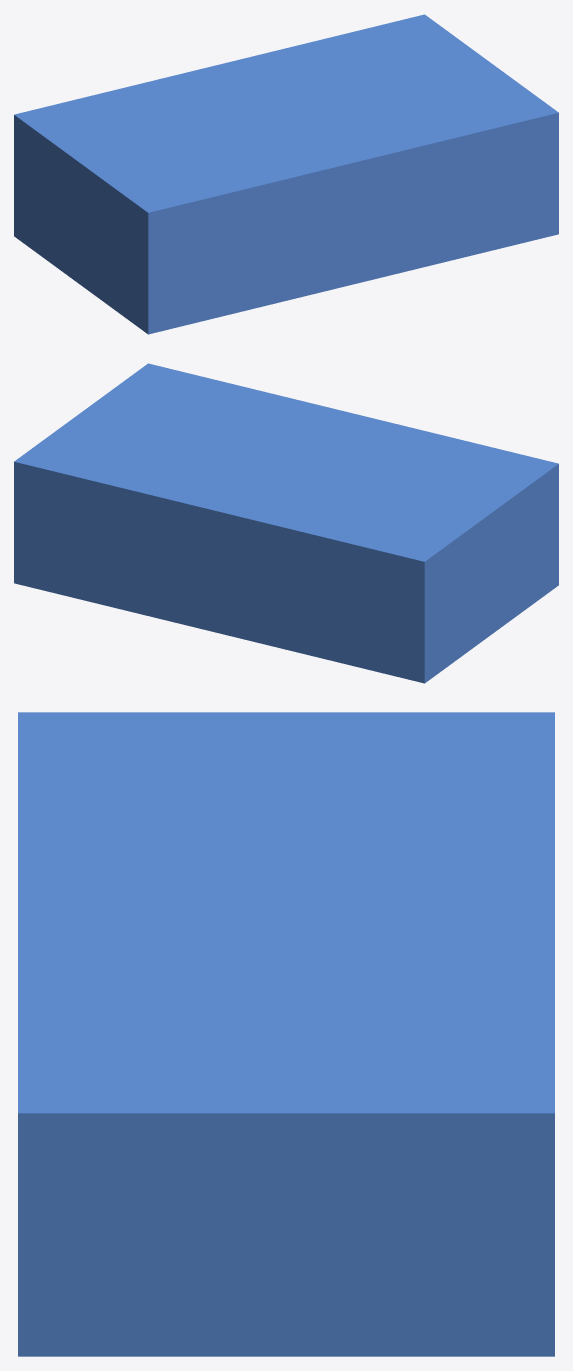
The model's file is esquiador_cintura.glb.
The picture shows the model from 3 angles, top to bottom: view 1: azimuth 30°, elevation 25°; view 2: azimuth 150°, elevation 25°; view 3: azimuth 270°, elevation 25°; orthographic projection. The views are drawn at different scales.
Parts seen in each view (by area): view 1: esquiador_cintura; view 2: esquiador_cintura; view 3: esquiador_cintura.
Boxes of the visible parts, x1,y1,x2,y2 form: esquiador_cintura: [14, 14, 558, 334]; esquiador_cintura: [14, 363, 558, 683]; esquiador_cintura: [18, 712, 554, 1356].
Bounding box in the file's own units: 0.53 × 0.15 × 0.3.
